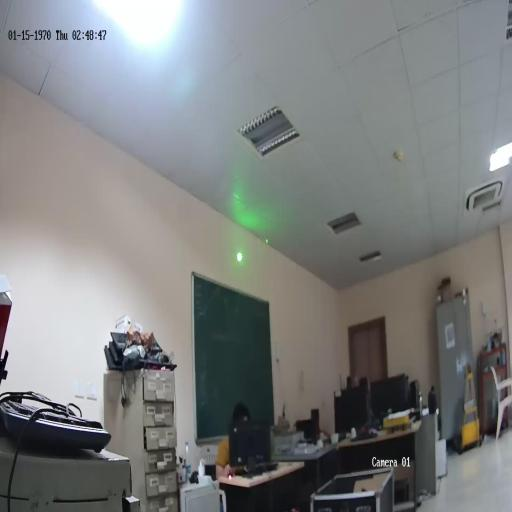laser: (235, 249, 244, 264)
